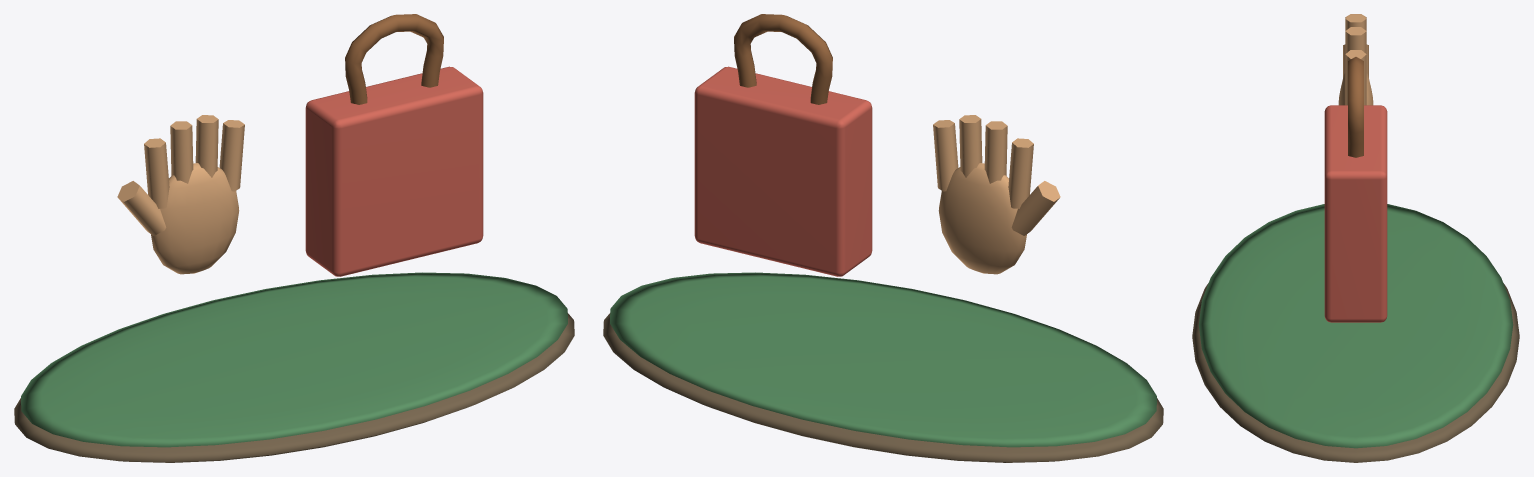
Rendered from courtesy-gift.glb.
3 views of the same model, side by side, from view 1: azimuth 30°, elevation 25°; view 2: azimuth 150°, elevation 25°; view 3: azimuth 270°, elevation 25° (orthographic). The views are drawn at different scales.
Visible parts, largest first — view 1: courtesy-gift_surface_01, courtesy-gift_surface_03, courtesy-gift_surface_02, courtesy-gift_surface_00, courtesy-gift_surface_04; view 2: courtesy-gift_surface_01, courtesy-gift_surface_03, courtesy-gift_surface_02, courtesy-gift_surface_00, courtesy-gift_surface_04; view 3: courtesy-gift_surface_01, courtesy-gift_surface_03, courtesy-gift_surface_00, courtesy-gift_surface_02, courtesy-gift_surface_04.
Boxes of the visible parts, <box> form: courtesy-gift_surface_01: <box>21,272,567,447</box>; courtesy-gift_surface_03: <box>305,66,483,276</box>; courtesy-gift_surface_02: <box>117,115,244,274</box>; courtesy-gift_surface_00: <box>14,313,574,462</box>; courtesy-gift_surface_04: <box>345,14,443,104</box>; courtesy-gift_surface_01: <box>610,272,1156,447</box>; courtesy-gift_surface_03: <box>694,66,872,276</box>; courtesy-gift_surface_02: <box>933,115,1060,274</box>; courtesy-gift_surface_00: <box>603,313,1163,462</box>; courtesy-gift_surface_04: <box>734,14,832,104</box>; courtesy-gift_surface_01: <box>1198,204,1513,448</box>; courtesy-gift_surface_03: <box>1324,105,1387,322</box>; courtesy-gift_surface_00: <box>1192,283,1519,462</box>; courtesy-gift_surface_02: <box>1338,14,1373,105</box>; courtesy-gift_surface_04: <box>1348,57,1363,157</box>.
Size of the model in its own units: 4.56 by 2.83 by 2.5.
